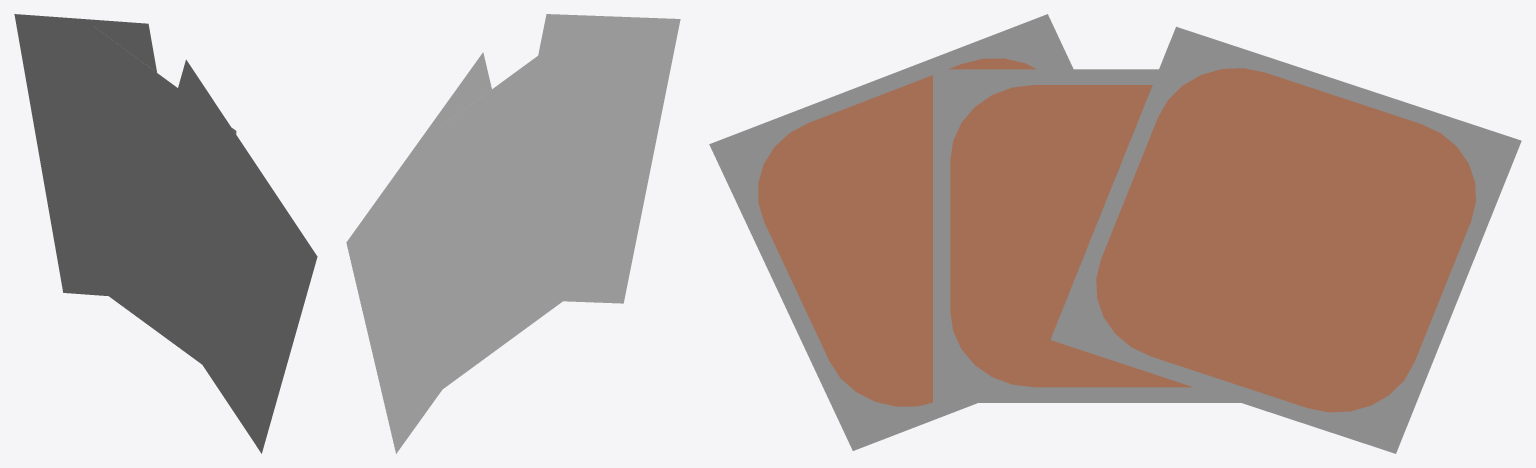
Rendered from Parches.fbx.
The picture shows the model from 3 angles, left to right: view 1: azimuth 30°, elevation 25°; view 2: azimuth 150°, elevation 25°; view 3: azimuth 270°, elevation 25°; orthographic projection. The views are drawn at different scales.
Parts seen in each view (by area): view 1: Plane.007, Plane.005, Plane.001; view 2: Plane.007, Plane.005, Plane.001; view 3: Plane.004, Plane, Plane.006, Plane.005, Plane.007, Plane.001.
Part boxes in pixels (box(x1,y1,x2,y2)): Plane.007: box(130, 59, 317, 453); Plane.005: box(14, 14, 157, 295); Plane.001: box(93, 26, 236, 364); Plane.007: box(489, 14, 680, 303); Plane.005: box(346, 52, 491, 453); Plane.001: box(440, 56, 562, 390); Plane.004: box(1096, 68, 1475, 412); Plane: box(950, 85, 1192, 387); Plane.006: box(758, 58, 1036, 406); Plane.005: box(1050, 26, 1521, 453); Plane.007: box(709, 14, 1073, 450); Plane.001: box(933, 69, 1240, 402).
Bounding box in the file's own units: 11.14 × 289 × 487.
